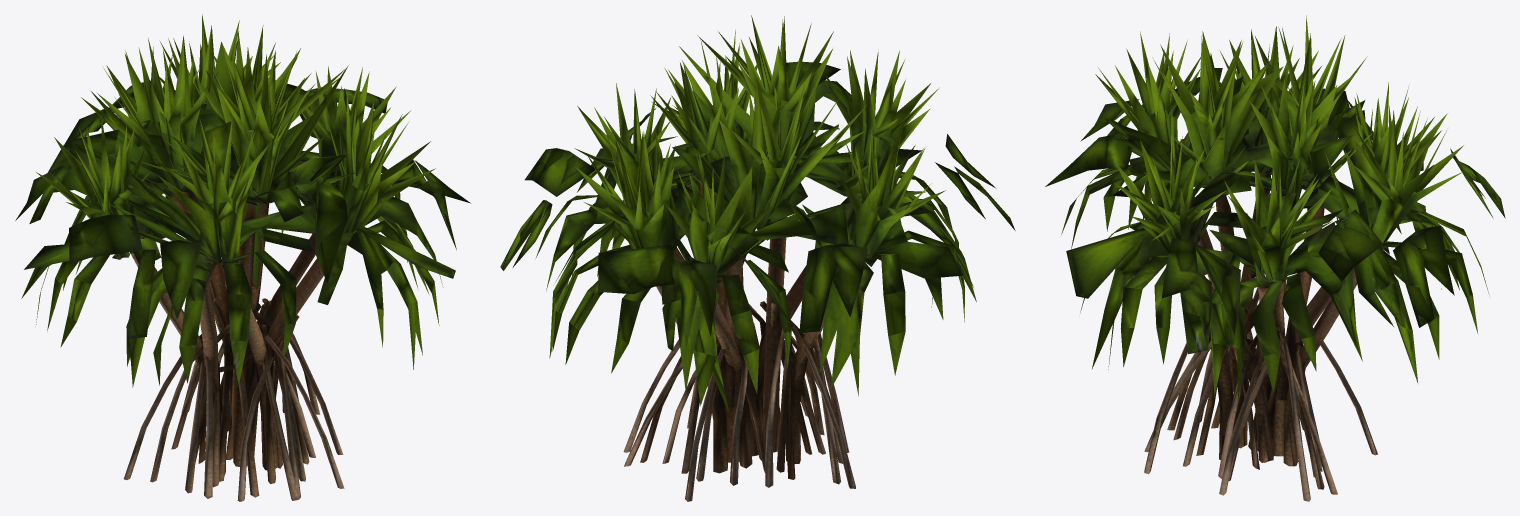
Rendered from selected.glb.
The picture shows the model from 3 angles, left to right: view 1: azimuth 30°, elevation 25°; view 2: azimuth 150°, elevation 25°; view 3: azimuth 270°, elevation 25°; orthographic projection. The views are drawn at different scales.
Visible parts, largest first — view 1: tripo_node_2387daa3-0512-4d1f-abfb-1e13453980f6; view 2: tripo_node_2387daa3-0512-4d1f-abfb-1e13453980f6; view 3: tripo_node_2387daa3-0512-4d1f-abfb-1e13453980f6.
Part boxes in pixels (bbox=[...]): tripo_node_2387daa3-0512-4d1f-abfb-1e13453980f6: bbox=[15, 14, 470, 501]; tripo_node_2387daa3-0512-4d1f-abfb-1e13453980f6: bbox=[500, 15, 1015, 501]; tripo_node_2387daa3-0512-4d1f-abfb-1e13453980f6: bbox=[1045, 15, 1505, 501].
Size of the model in its own units: 0.9804 by 1 by 0.9922.
1 material, 1 textured.
